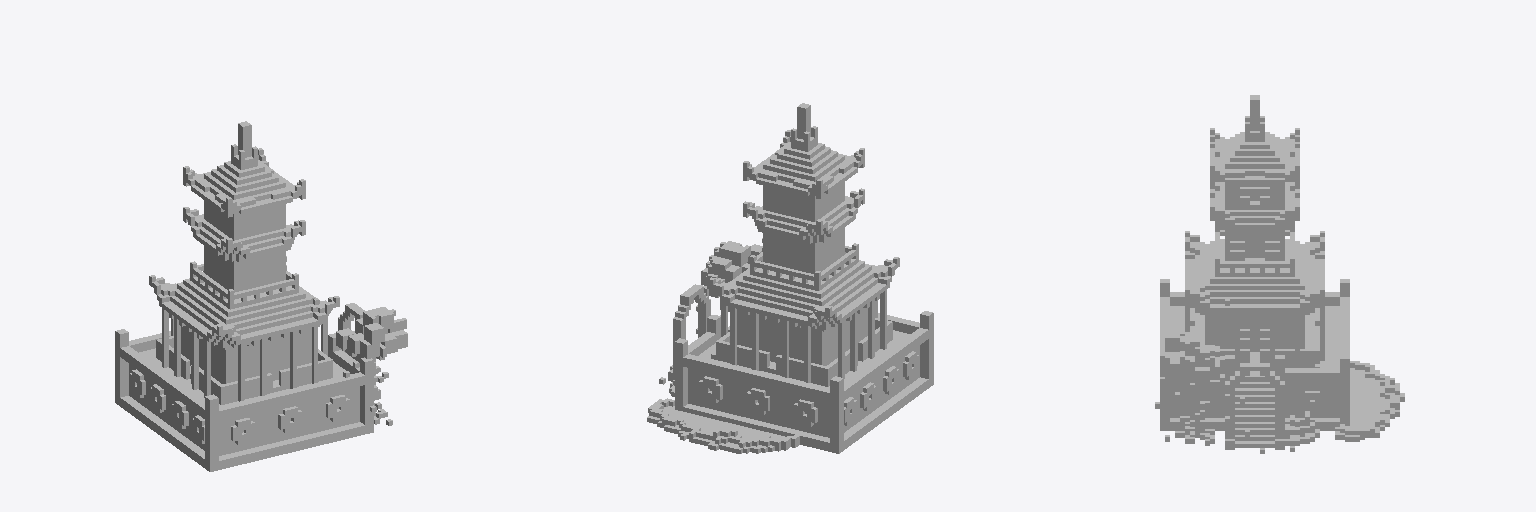
File: castle.obj
The picture shows the model from 3 angles: view 1: azimuth 30°, elevation 25°; view 2: azimuth 150°, elevation 25°; view 3: azimuth 270°, elevation 25°; orthographic projection.
Size of the model in its own units: 49 by 65 by 50.